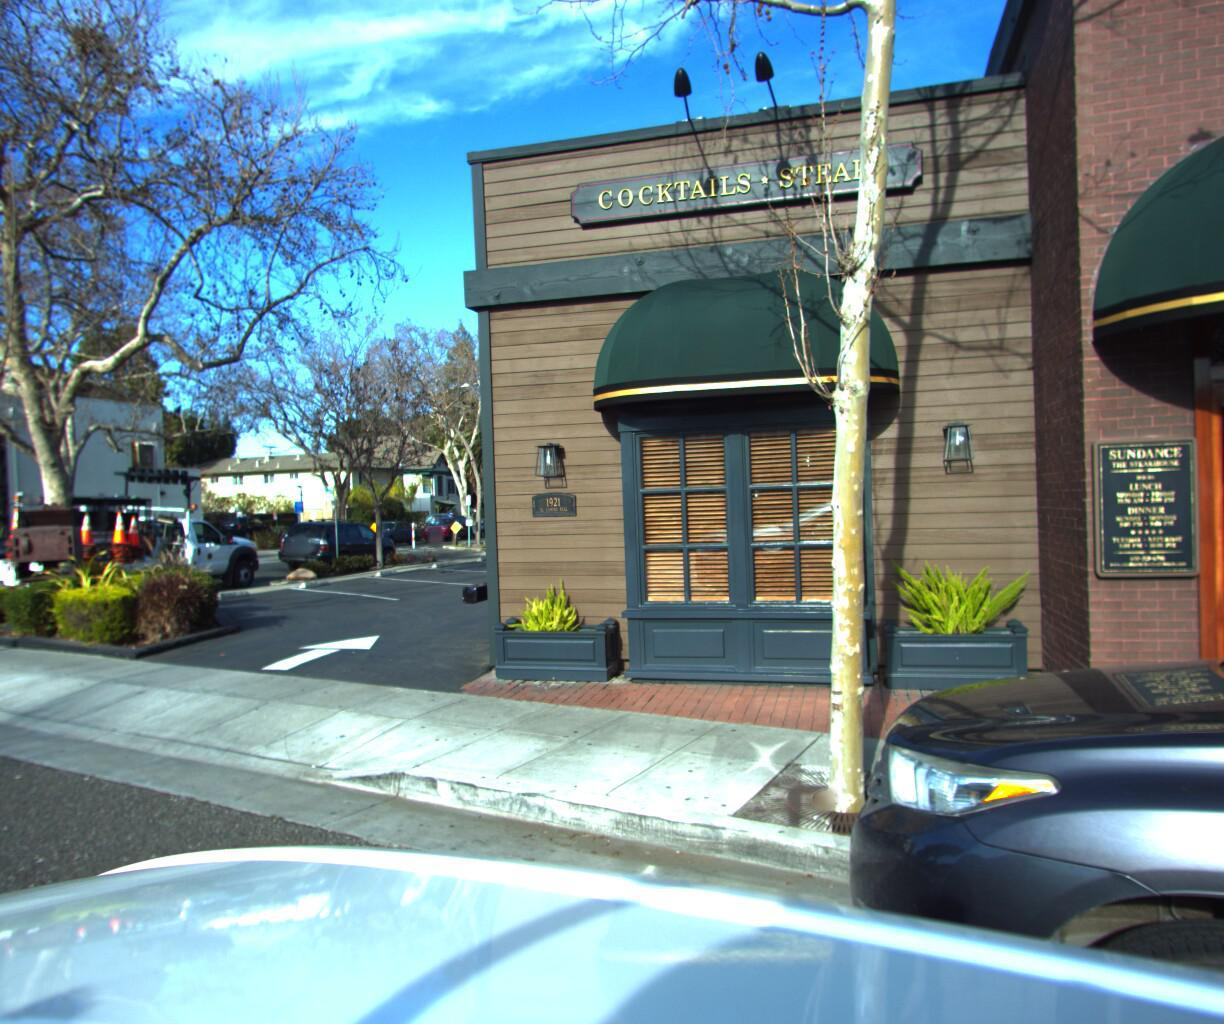car: (0, 457, 283, 616), (270, 506, 395, 573), (0, 526, 72, 587), (352, 513, 421, 544), (418, 507, 476, 539), (455, 508, 504, 533)
